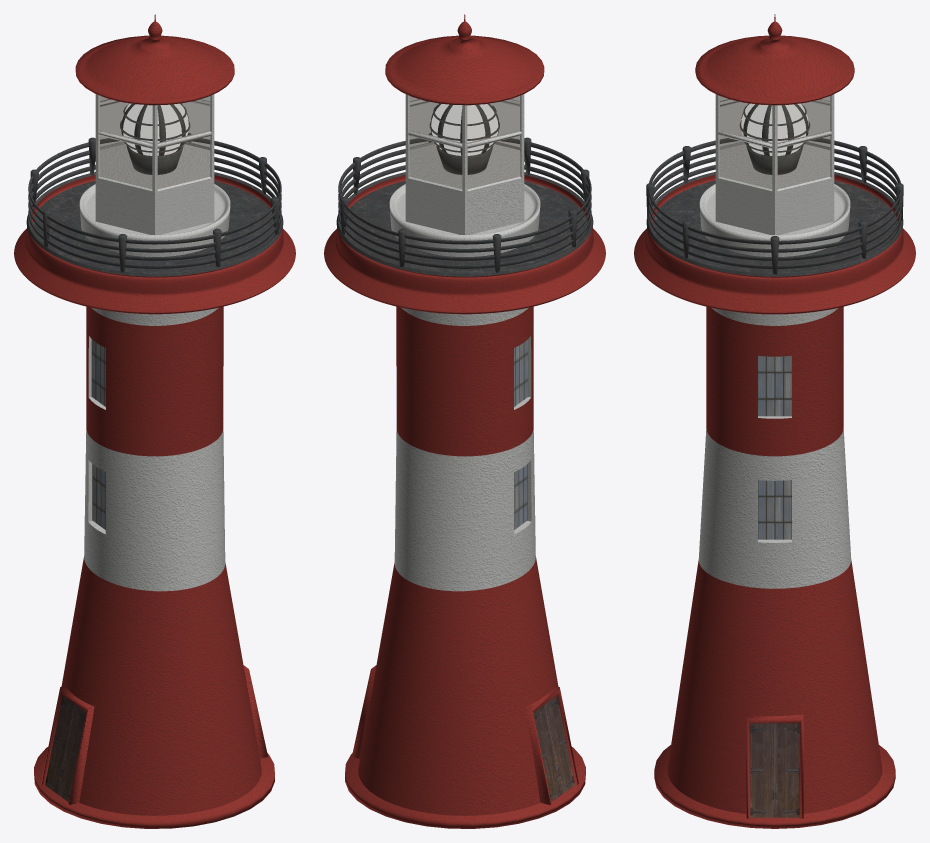
The model's file is lighthouse.glb.
3 renders of one model, left to right at view 1: azimuth 30°, elevation 25°; view 2: azimuth 150°, elevation 25°; view 3: azimuth 270°, elevation 25°, orthographic.
Visible parts, largest first — view 1: Lighthouse, Lamp; view 2: Lighthouse, Lamp; view 3: Lighthouse, Lamp.
Boxes of the visible parts, <box> form: Lighthouse: <box>14,14,295,828</box>; Lamp: <box>120,103,190,174</box>; Lighthouse: <box>324,14,605,828</box>; Lamp: <box>429,103,499,174</box>; Lighthouse: <box>634,14,915,828</box>; Lamp: <box>739,103,810,174</box>.
Size of the model in its own units: 4.11 by 12.3 by 4.11.
Materials: 7 (5 with a texture image).
